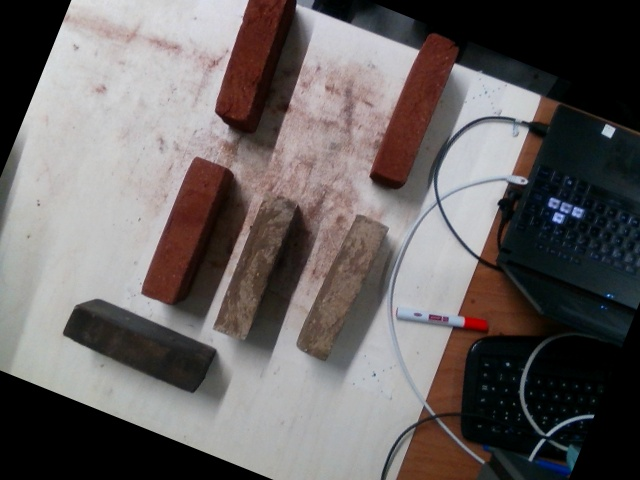brick-side: (297, 215, 390, 363), (373, 33, 458, 183), (211, 193, 296, 343), (139, 156, 223, 306), (62, 308, 203, 391)
